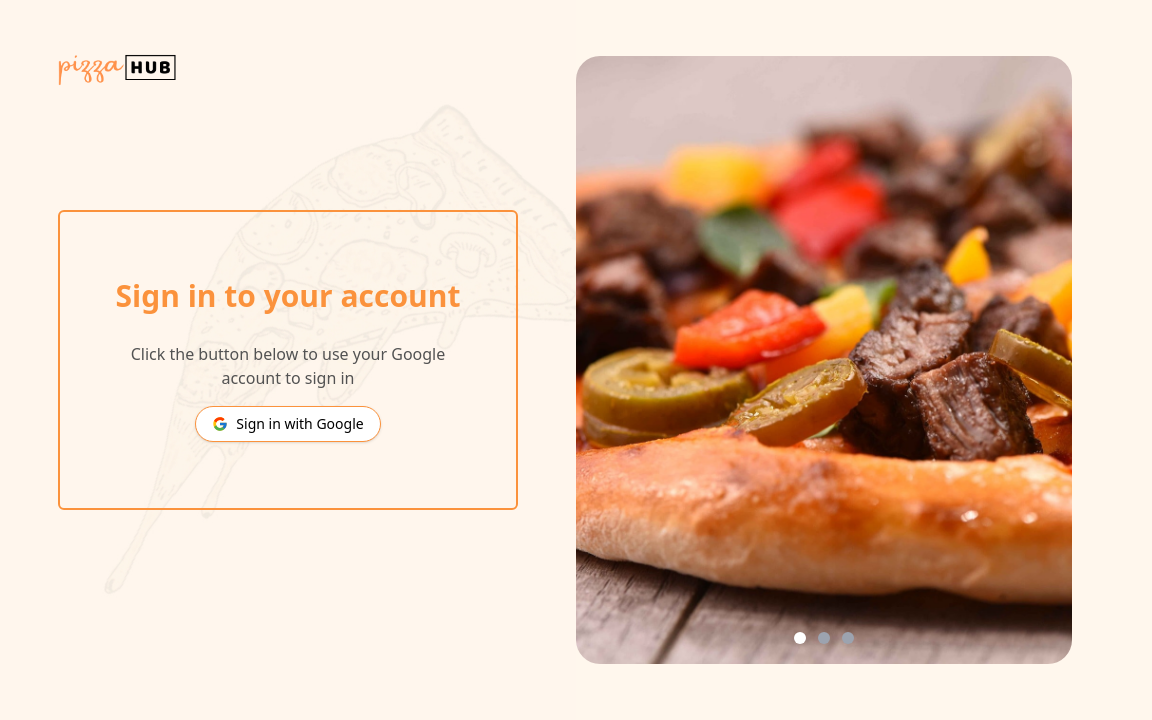
Test case: AuthPage › shows error toast when sign-in fails
The width and height of the screenshot is (1152, 720).
Click the button "Sign in with Google" at x=288, y=424, box left=195, top=406, right=381, bottom=442
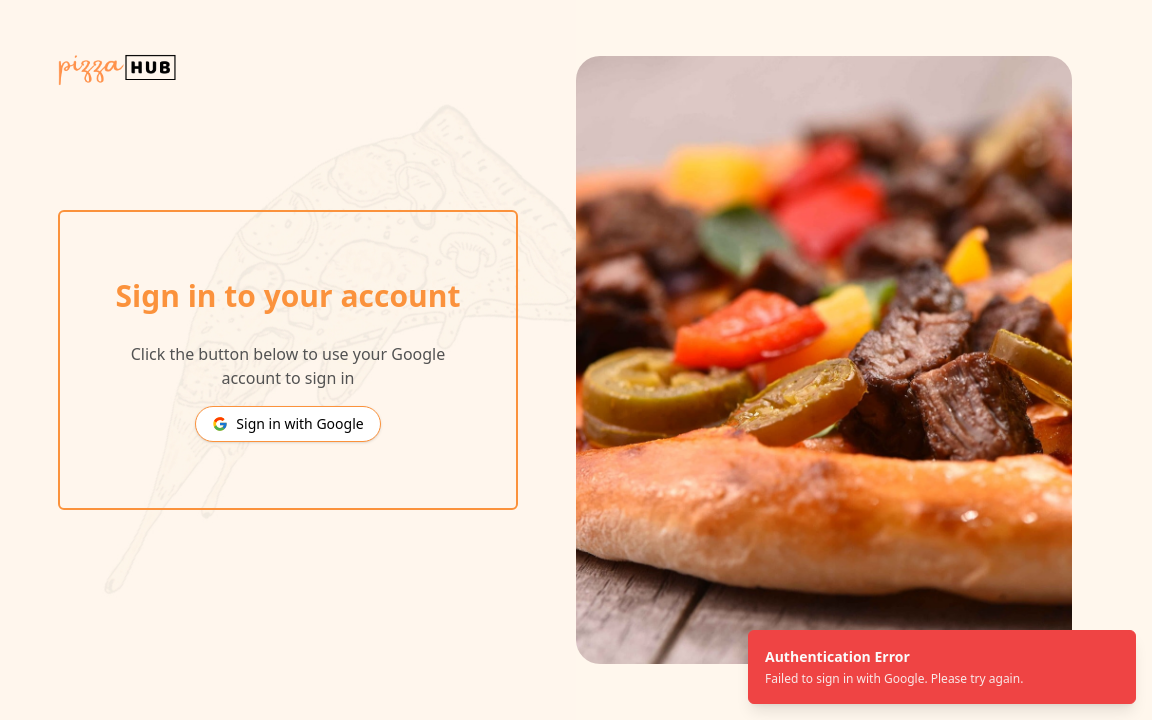
expect the text "Authentication Error" is shown: met, box left=765, top=647, right=910, bottom=666
expect the text "Failed to sign in with Google. Please try again." is shown: met, box left=765, top=671, right=1023, bottom=687
